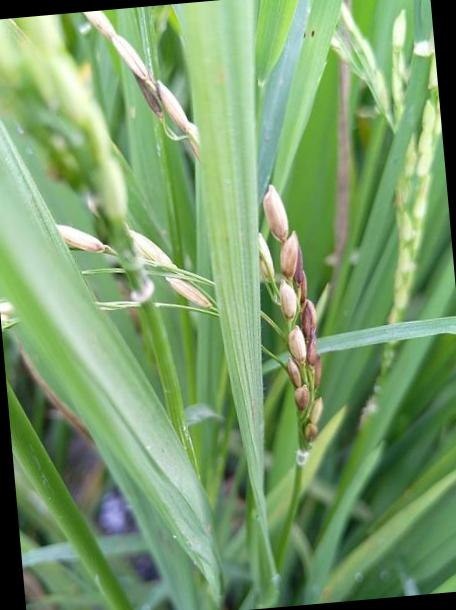Panicle Blight: (134, 73, 165, 124), (263, 185, 288, 238), (287, 358, 309, 417), (302, 397, 323, 444), (286, 325, 307, 367), (279, 281, 299, 323), (294, 246, 308, 305), (280, 232, 297, 278), (300, 298, 316, 342), (306, 332, 319, 366), (314, 354, 322, 391)
